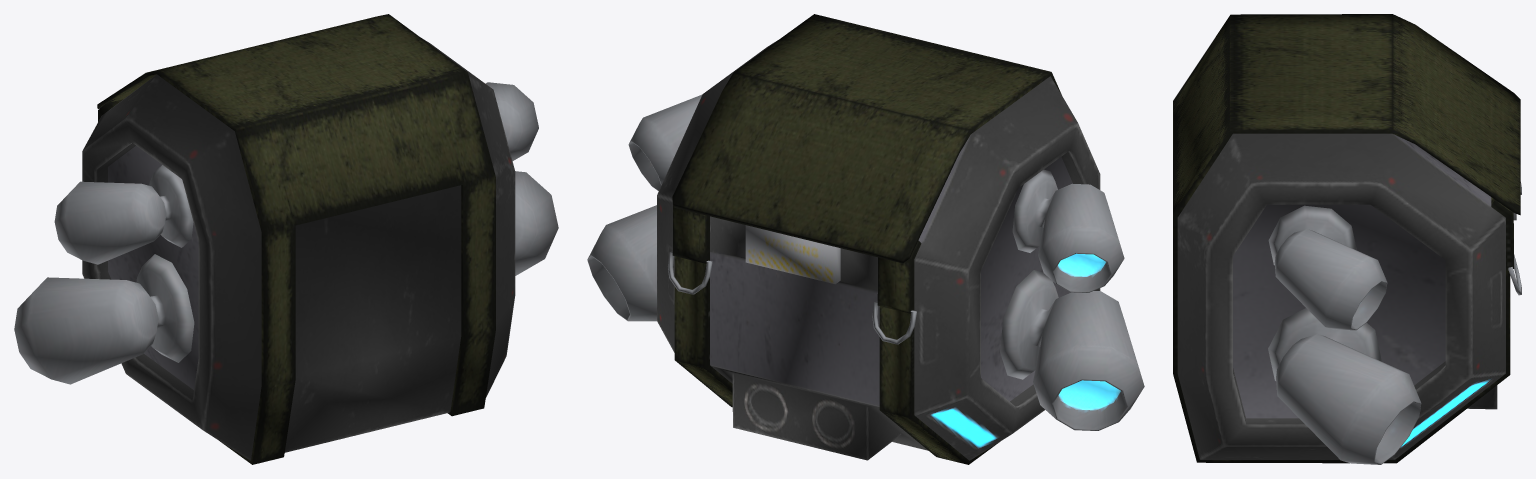
3 renders of one model, left to right at view 1: azimuth 30°, elevation 25°; view 2: azimuth 150°, elevation 25°; view 3: azimuth 270°, elevation 25°, orthographic. The views are drawn at different scales.
Visible parts, largest first — view 1: a_low, a3_low, a8_low, a9_low, a4_low; view 2: a_low, a3_low, a8_low, a9_low, a4_low; view 3: a_low, a9_low, a4_low.
Boxes of the visible parts, box(x1,y1,x2,y2) form: a_low: box(82, 14, 515, 464); a3_low: box(14, 254, 194, 384); a8_low: box(54, 165, 193, 264); a9_low: box(515, 171, 558, 275); a4_low: box(485, 82, 538, 160); a_low: box(657, 14, 1100, 464); a3_low: box(1000, 270, 1144, 430); a8_low: box(1012, 169, 1124, 292); a9_low: box(587, 205, 656, 321); a4_low: box(628, 94, 702, 191); a_low: box(1173, 14, 1520, 463); a9_low: box(1268, 308, 1421, 464); a4_low: box(1268, 205, 1387, 330).
Size of the model in its own units: 12.3 by 7.74 by 6.92.
1 material, 1 textured.
